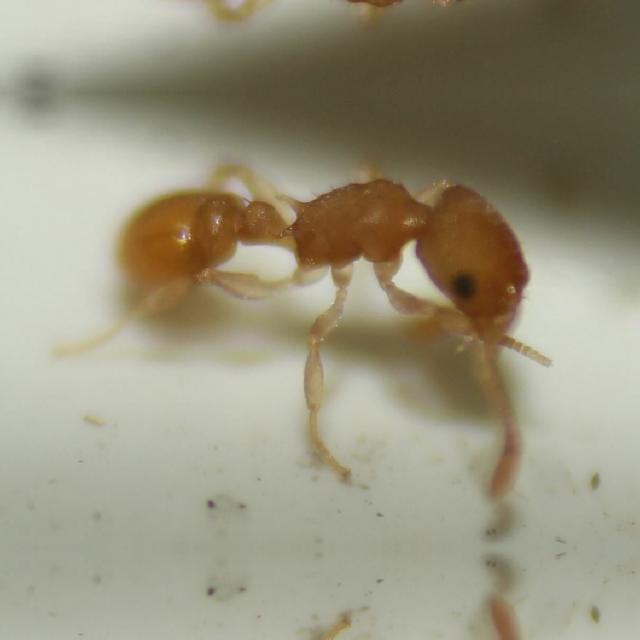Temnothorax: (88, 128, 554, 382), (86, 0, 554, 56)
